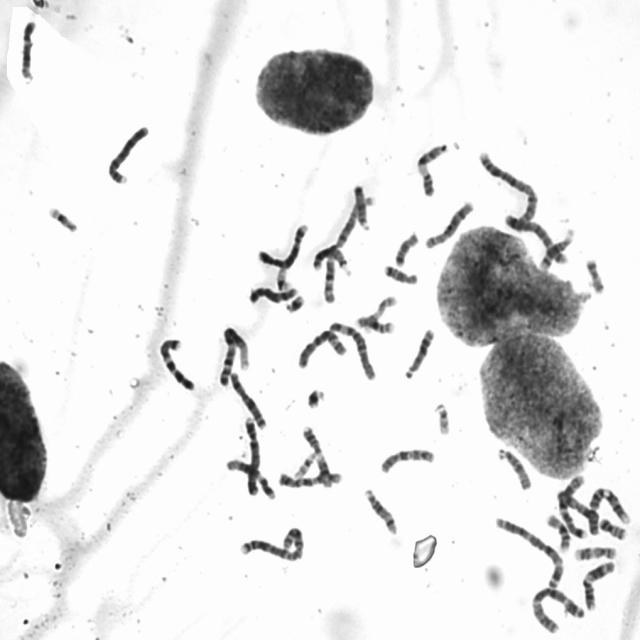A1: (322, 196, 380, 303), (215, 322, 252, 389)
A2: (476, 147, 540, 225), (236, 523, 307, 563)
A3: (491, 514, 565, 590), (528, 583, 587, 635)
B4: (104, 121, 151, 186), (240, 412, 262, 497)
B5: (502, 212, 570, 266), (255, 220, 310, 270)
C10: (378, 445, 437, 475), (276, 468, 344, 490)
C11: (299, 423, 334, 489), (580, 558, 616, 612)
C12: (224, 455, 277, 501), (17, 16, 38, 82)
C6: (326, 318, 377, 382), (295, 326, 348, 370)
C7: (155, 334, 197, 392), (556, 472, 588, 540)
C8: (422, 197, 476, 250), (246, 282, 300, 305)
C9: (414, 139, 450, 198), (587, 483, 633, 526)
D13: (402, 325, 436, 379), (310, 243, 354, 276)
D14: (536, 224, 578, 272), (362, 486, 399, 536)
D15: (494, 444, 534, 492), (350, 180, 372, 232)
E16: (542, 510, 572, 553), (354, 312, 396, 335)
E17: (357, 292, 399, 332), (571, 542, 619, 562)
E18: (393, 228, 420, 267), (381, 261, 420, 286)
F19: (44, 202, 80, 234), (274, 265, 292, 292)
F20: (583, 255, 606, 295), (597, 514, 628, 541)
G21: (304, 384, 328, 410), (282, 291, 306, 314)
G22: (291, 448, 318, 480), (431, 399, 452, 436)
X: (226, 368, 268, 431), (554, 481, 599, 538)
